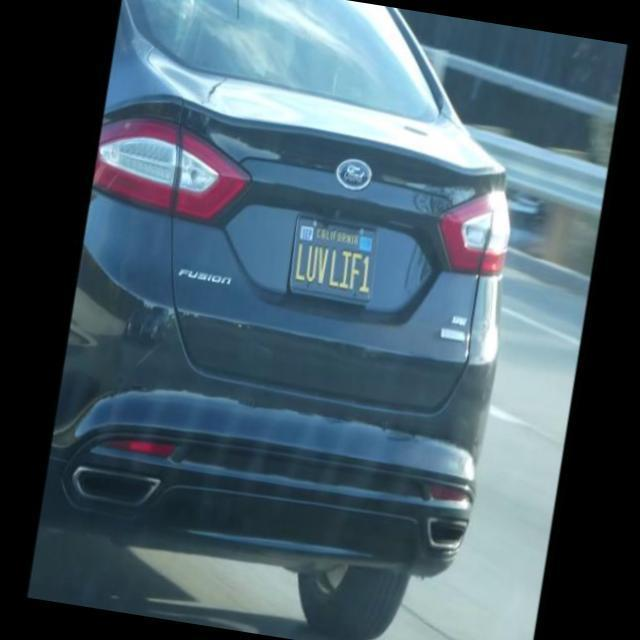License Plate: (285, 210, 383, 308)
